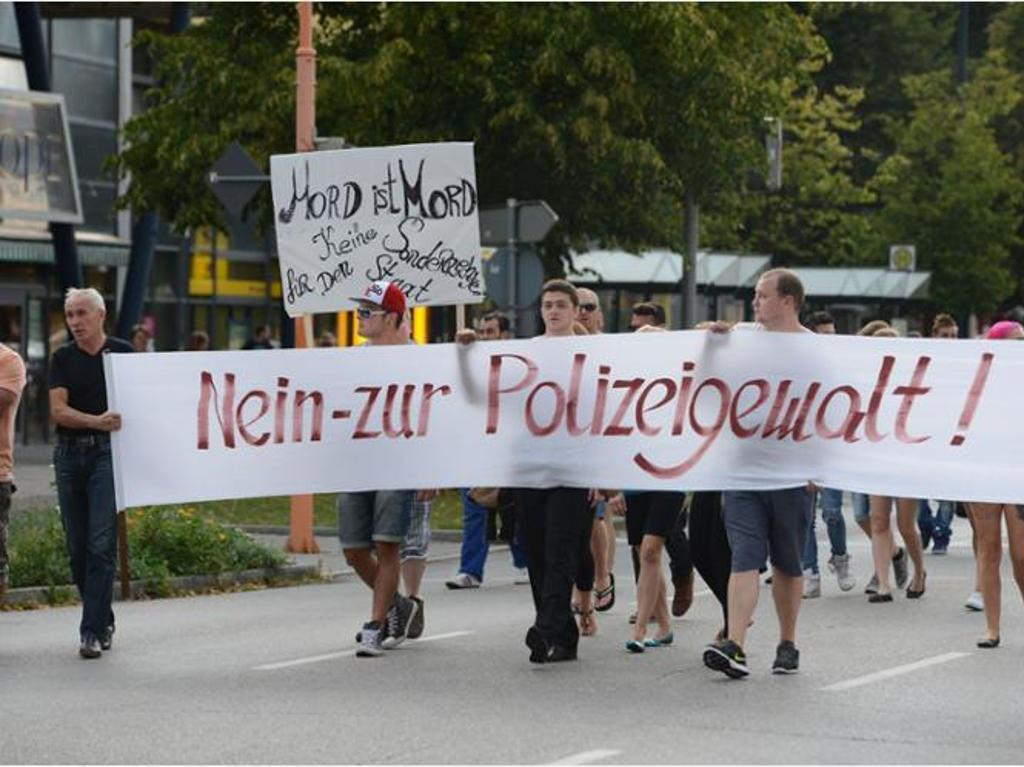face: (751, 277, 784, 323), (66, 301, 100, 342), (541, 291, 574, 330), (357, 301, 387, 336), (572, 293, 597, 327), (631, 314, 656, 344), (388, 311, 410, 339), (481, 320, 501, 346), (816, 324, 835, 347), (937, 327, 957, 348), (321, 337, 337, 357), (135, 333, 149, 348), (1015, 311, 1024, 330), (263, 328, 272, 340), (200, 344, 207, 354)
